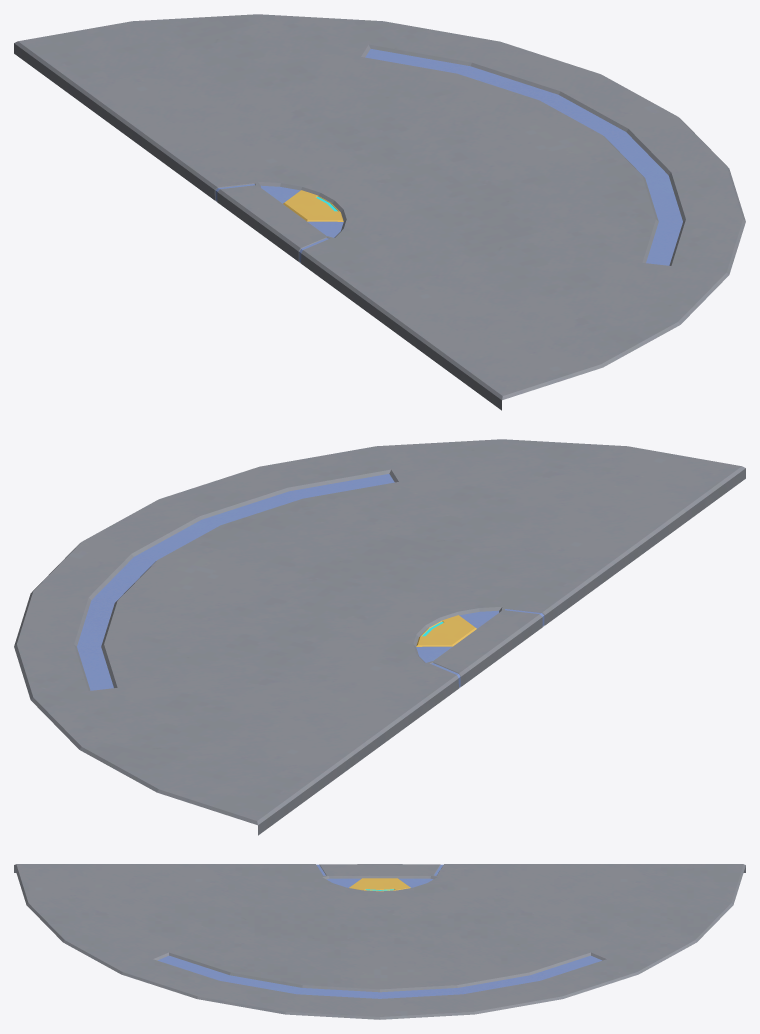
File: WhackMoleAb.fbx
The picture shows the model from 3 angles, top to bottom: view 1: azimuth 30°, elevation 25°; view 2: azimuth 150°, elevation 25°; view 3: azimuth 270°, elevation 25°; orthographic projection. The views are drawn at different scales.
Visible parts, largest first — view 1: SM_VA_WhackMoleAb.mo; view 2: SM_VA_WhackMoleAb.mo; view 3: SM_VA_WhackMoleAb.mo.
Boxes of the visible parts, x1,y1,x2,y2 form: SM_VA_WhackMoleAb.mo: (14,14,745,410); SM_VA_WhackMoleAb.mo: (14,439,745,835); SM_VA_WhackMoleAb.mo: (14,864,745,1019).
Bounding box in the file's own units: 1.71 × 0.05 × 3.43.
